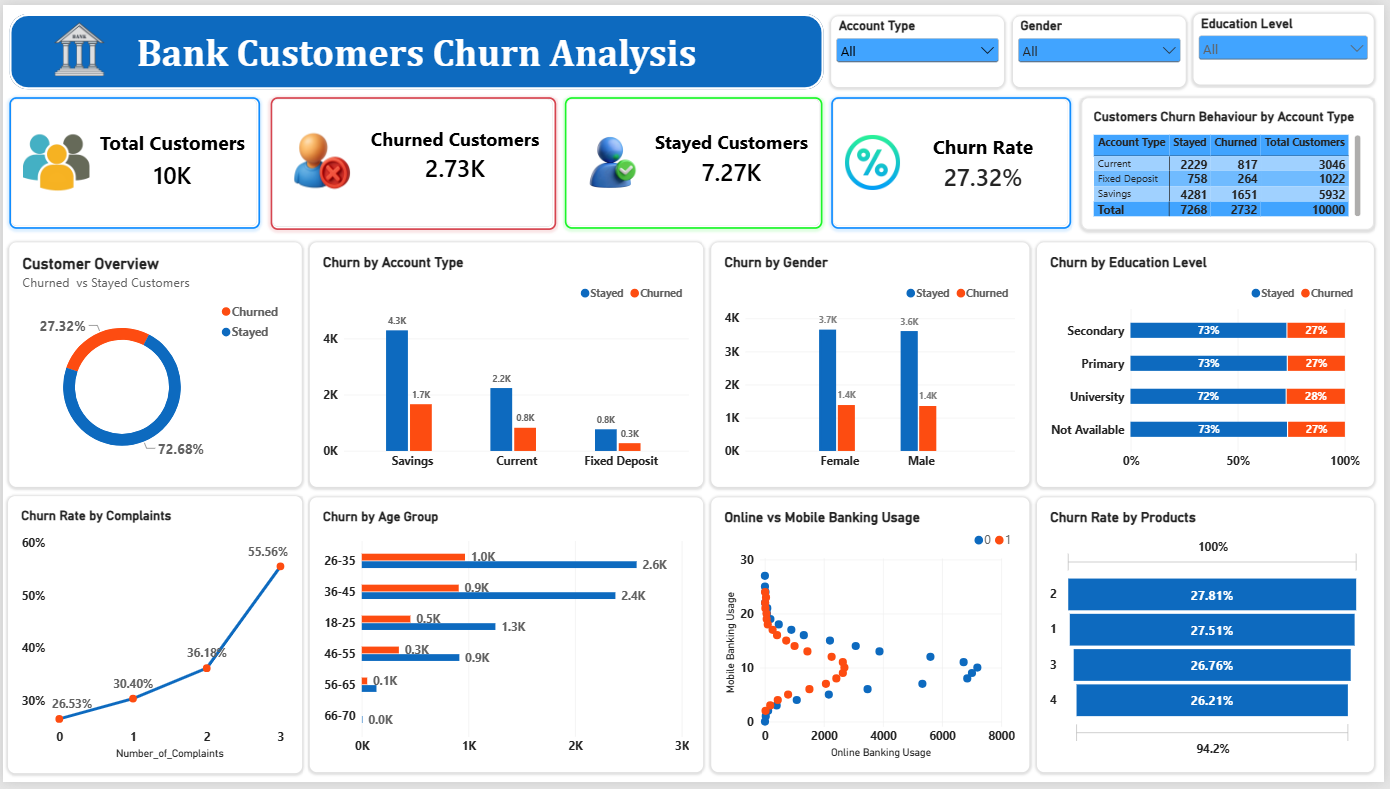

What the dashboard file says about the page in this screenshot:
{"tool":"powerbi","page":{"name":"Page 1","canvas":[1920,1080],"ordinal":0},"visuals":[{"type":"cardVisual","fields":{"Data":["Bank_Churn_Data.Churn Rate %"]},"box":[1150.9,128.1,333.3,184.2],"z":0},{"type":"cardVisual","fields":{"Data":["Bank_Churn_Data.Churned Customers"]},"box":[371.9,128.1,396.5,184.2],"z":1000},{"type":"cardVisual","fields":{"Data":["Bank_Churn_Data.Stayed Customers"]},"box":[780.7,128.1,358.3,183.3],"z":2000},{"type":"cardVisual","title":"Total Customers","fields":{"Data":["Bank_Churn_Data.Total Customers"]},"box":[8.3,128.3,348.3,183.3],"z":3000},{"type":"clusteredColumnChart","title":"Churn by Account Type","fields":{"Category":["Bank_Churn_Data.Account_Type"],"Y":["Bank_Churn_Data.Stayed Customers","Bank_Churn_Data.Churned Customers"]},"box":[426.7,330,546.7,340],"z":4000},{"type":"donutChart","title":"Customer Overview","fields":{"Y":["Bank_Churn_Data.Churned Customers","Bank_Churn_Data.Stayed Customers"]},"box":[8.3,330,406.7,340],"z":5000},{"type":"clusteredColumnChart","title":"Churn by Gender","fields":{"Category":["Bank_Churn_Data.Gender"],"Y":["Bank_Churn_Data.Stayed Customers","Bank_Churn_Data.Churned Customers"]},"box":[985,330,441.7,340],"z":6000},{"type":"hundredPercentStackedBarChart","title":"Churn by Education Level","fields":{"Category":["Bank_Churn_Data.Education_Level"],"Y":["Bank_Churn_Data.Stayed Customers","Bank_Churn_Data.Churned Customers"]},"box":[1436.7,330,468.3,340],"z":7000},{"type":"funnel","title":"Churn Rate by Products","fields":{"Category":["Bank_Churn_Data.Number_of_Products"],"Y":["Bank_Churn_Data.Churn Rate %"]},"box":[1436.7,685,468.3,381.7],"z":8000},{"type":"lineChart","title":"Churn Rate  by Complaints","fields":{"Category":["Bank_Churn_Data.Number_of_Complaints"],"Y":["Bank_Churn_Data.Churn Rate %"]},"box":[6.7,681.7,408.3,385],"z":9000},{"type":"scatterChart","title":"Online vs Mobile Banking Usage","fields":{"Series":["Bank_Churn_Data.Churn"],"X":["Sum(Bank_Churn_Data.Online_Banking_Usage)"],"Y":["Bank_Churn_Data.Mobile_Banking_Usage"]},"box":[985,685,441.7,381.7],"z":10000},{"type":"pivotTable","title":" Customers Churn Behaviour by Account Type","fields":{"Rows":["Bank_Churn_Data.Account_Type"],"Values":["Bank_Churn_Data.Stayed Customers","Bank_Churn_Data.Churned Customers","Bank_Churn_Data.Total Customers"]},"box":[1498.2,128.1,407,184.2],"z":11000},{"type":"clusteredBarChart","title":"Churn by Age Group","fields":{"Category":["Bank_Churn_Data.Age Group"],"Y":["Bank_Churn_Data.Churned Customers","Bank_Churn_Data.Stayed Customers"]},"box":[426.7,685,546.7,381.7],"z":12000},{"type":"shape","box":[8.3,11.7,1131.7,105],"z":12001},{"type":"image","box":[0,11.7,211.7,98.3],"z":12002},{"type":"slicer","fields":{"Values":["Bank_Churn_Data.Account_Type"]},"box":[1151.7,15,240,98.3],"z":12003},{"type":"slicer","fields":{"Values":["Bank_Churn_Data.Gender"]},"box":[1403.3,15,240,98.3],"z":12004},{"type":"slicer","fields":{"Values":["Bank_Churn_Data.Education_Level"]},"box":[1655,11.7,250,98.3],"z":12005}]}

Visuals, with their boxes in screenshot pixels (x1, y1, x2, y2), scaled from the page's 1920x1080 canvas onto the 1390x789 screenshot:
cardVisual - Bank_Churn_Data.Churn Rate %: 833:94:1074:228
cardVisual - Bank_Churn_Data.Churned Customers: 269:94:556:228
cardVisual - Bank_Churn_Data.Stayed Customers: 565:94:825:227
"Total Customers" cardVisual: 6:94:258:228
"Churn by Account Type" clusteredColumnChart: 309:241:705:489
"Customer Overview" donutChart: 6:241:300:489
"Churn by Gender" clusteredColumnChart: 713:241:1033:489
"Churn by Education Level" hundredPercentStackedBarChart: 1040:241:1379:489
"Churn Rate by Products" funnel: 1040:500:1379:779
"Churn Rate  by Complaints" lineChart: 5:498:300:779
"Online vs Mobile Banking Usage" scatterChart: 713:500:1033:779
" Customers Churn Behaviour by Account Type" pivotTable: 1085:94:1379:228
"Churn by Age Group" clusteredBarChart: 309:500:705:779
shape: 6:9:825:85
image: 0:9:153:80
slicer - Bank_Churn_Data.Account_Type: 834:11:1008:83
slicer - Bank_Churn_Data.Gender: 1016:11:1190:83
slicer - Bank_Churn_Data.Education_Level: 1198:9:1379:80
